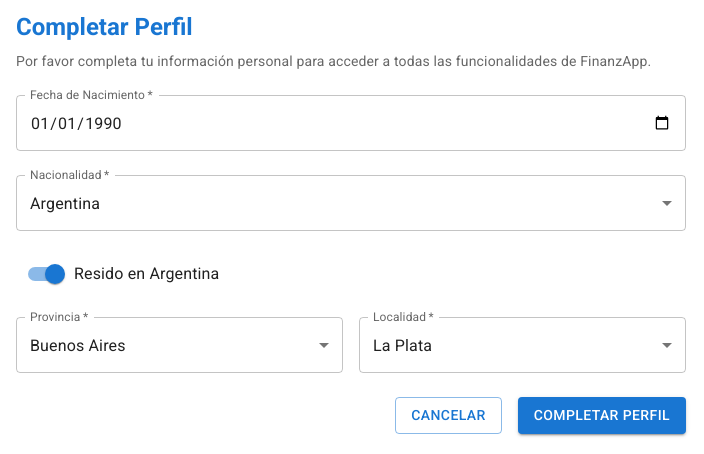
it: CompleteProfilePage › handles switching residence outside Argentina
The width and height of the screenshot is (704, 454).
Click the switch labelled "Resido en Argentina". click: {"x": 124, "y": 274}
box: 28,264 -> 219,284
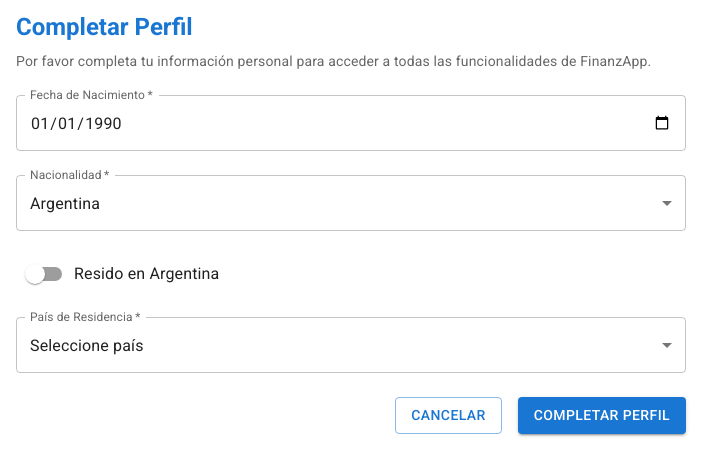
Check: the dropdown named "País de Residencia" is shown, box 30,336 -> 144,355
